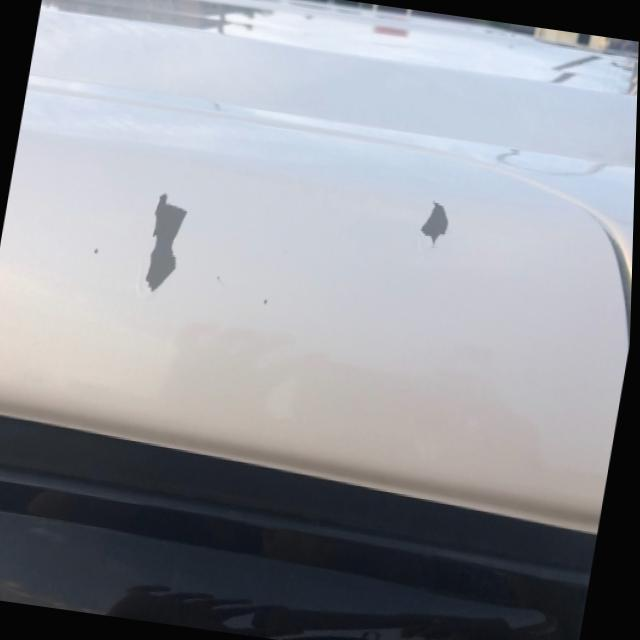Paint-fading: (141, 189, 189, 298), (418, 199, 450, 248)
